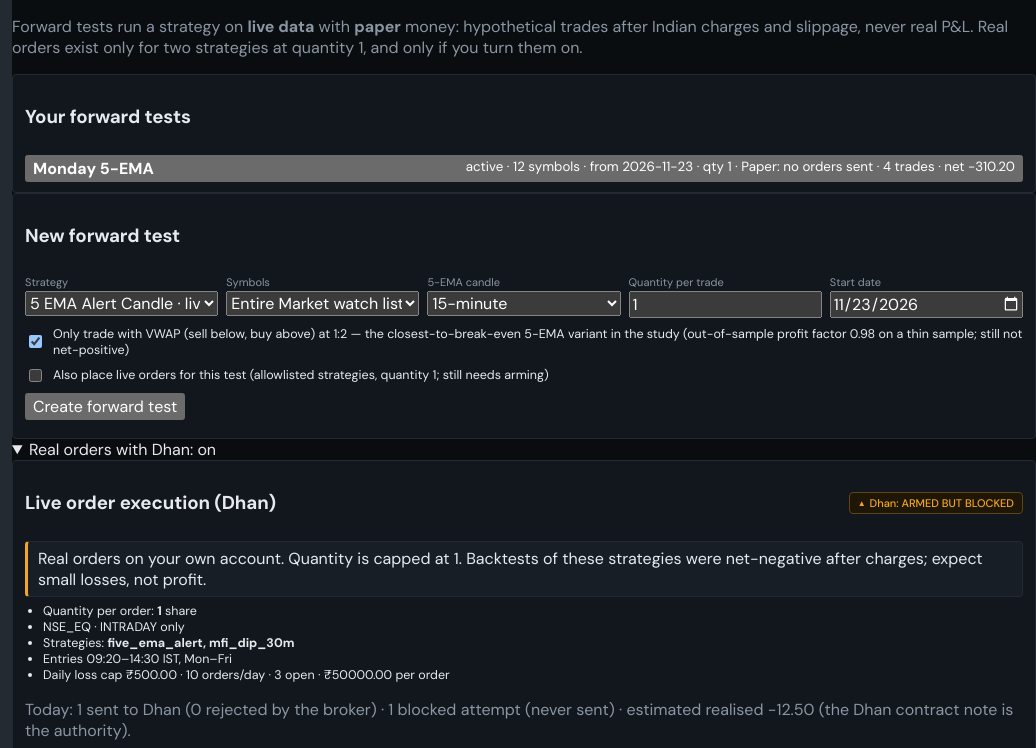
Scenario: ForwardTest › only allows the live flag for an allowlisted strategy at quantity 1, and creates paper tests otherwise
The width and height of the screenshot is (1036, 748).
expect the checkbox labelled "Also place live orders" is enabled: met, box [29,369,42,382]
Replace the text in the field labelled "Quantity" with "5": (725, 304) [629,291,822,318]
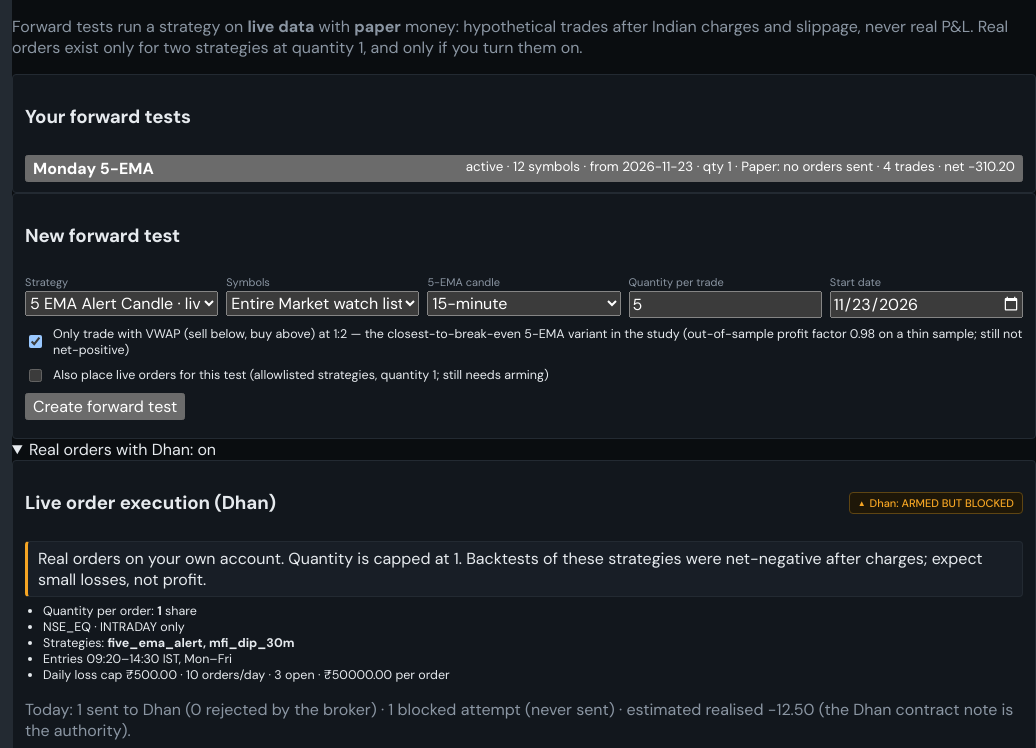
expect the checkbox labelled "Also place live orders" is disabled: met, box [29,369,42,382]
Replace the text in the field labelled "Quantity" with "1": (725, 304) [629,291,822,318]
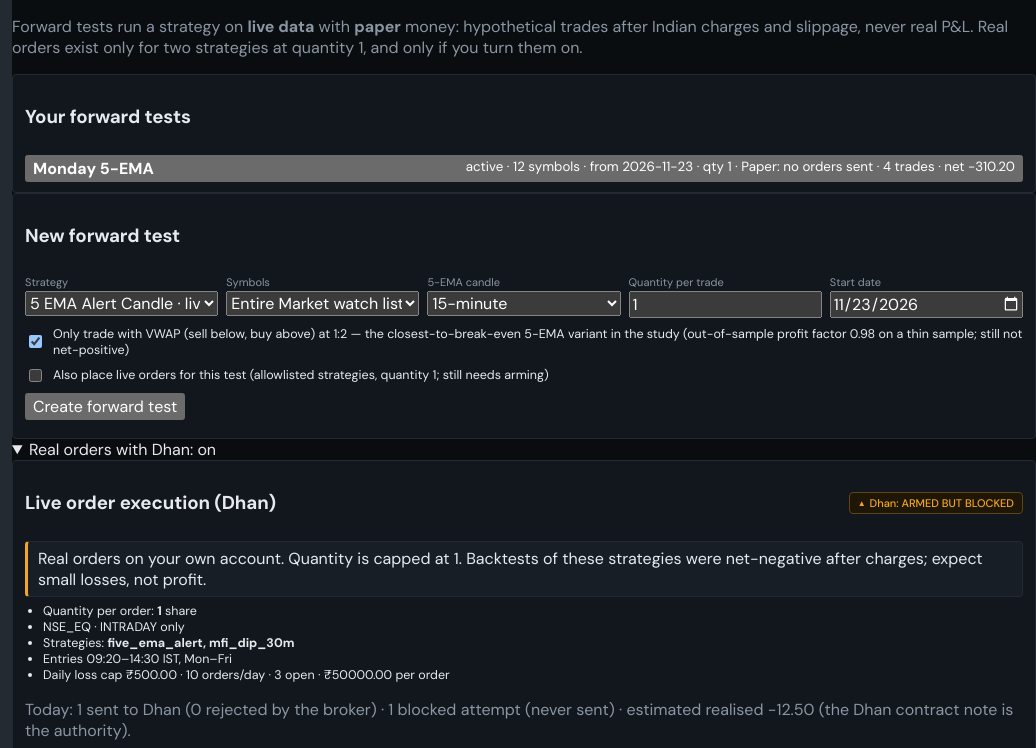
Select "PSAR Flip" in the dropdown labelled "Strategy": (122, 303) [25,291,218,316]
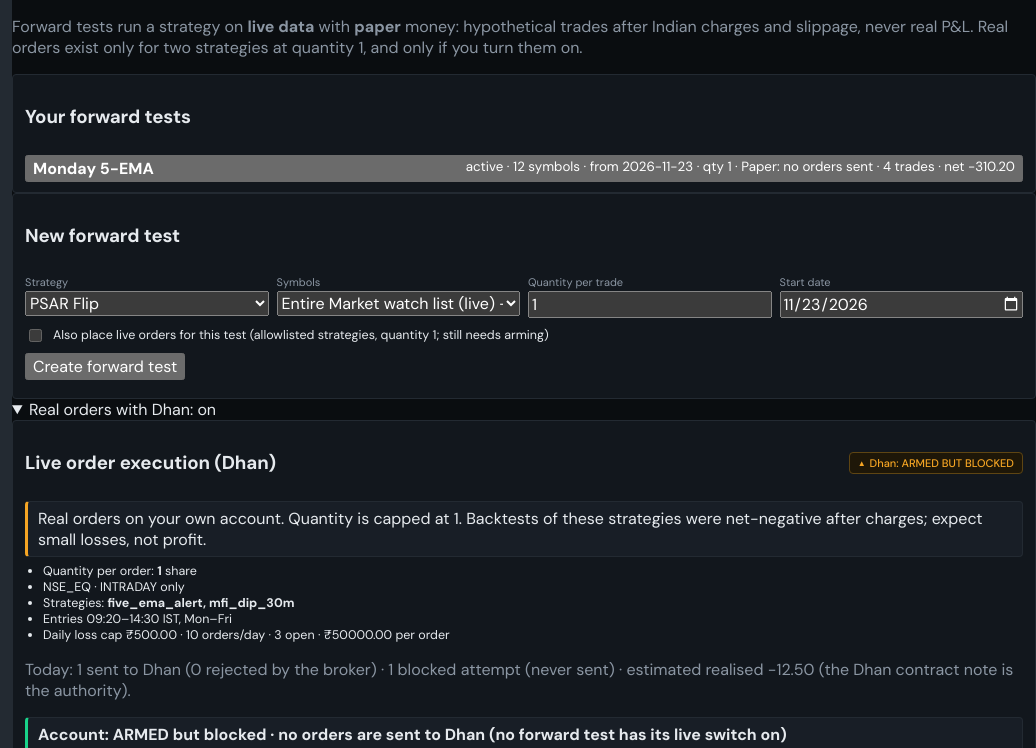
expect the checkbox labelled "Also place live orders" is disabled: met, box [29,329,42,342]
Click the button "Create forward test": (105, 366) [25,353,185,380]
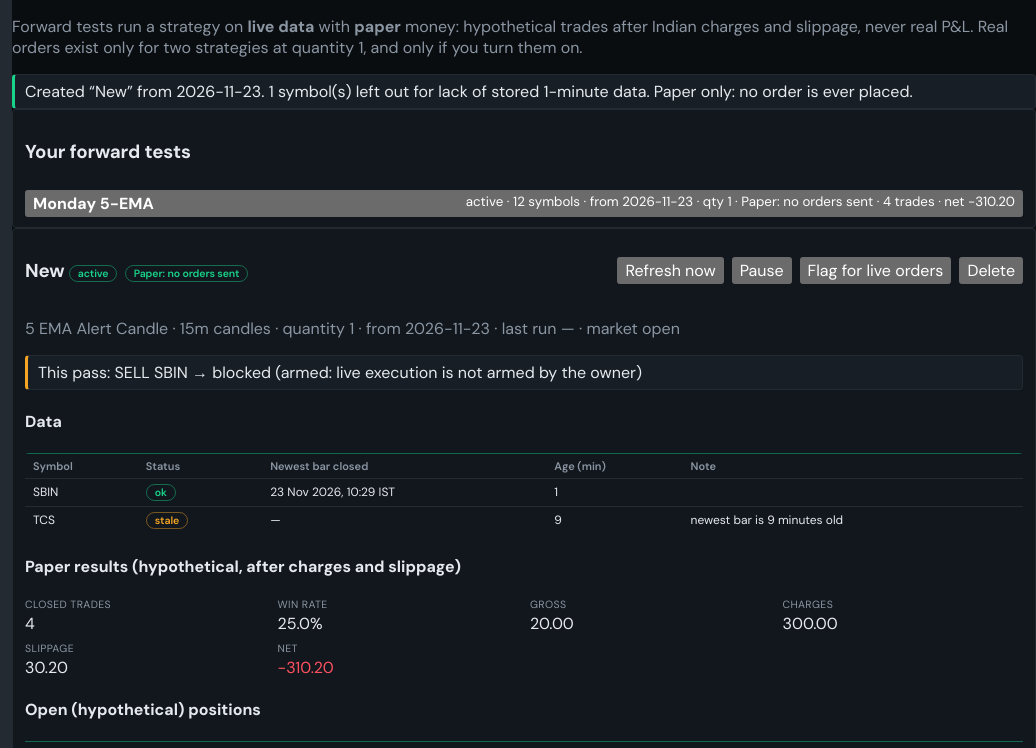
expect the text "1 symbol(s) left out for lack of stored 1-minute data" is shown: met, box [25,81,913,102]
